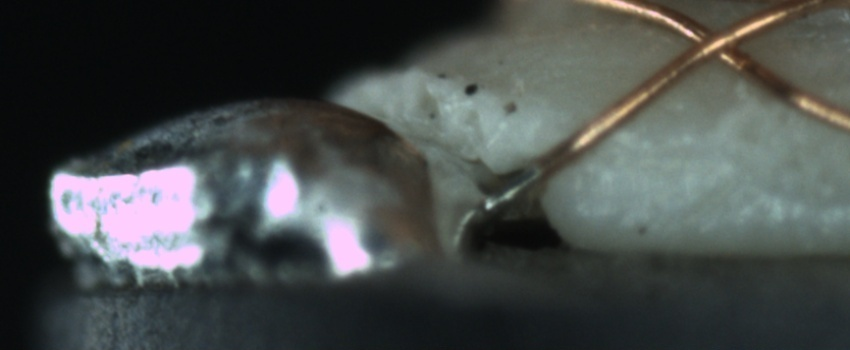CL: (670, 10, 762, 75)
DL: (601, 119, 742, 171)
TS: (487, 161, 545, 214)
